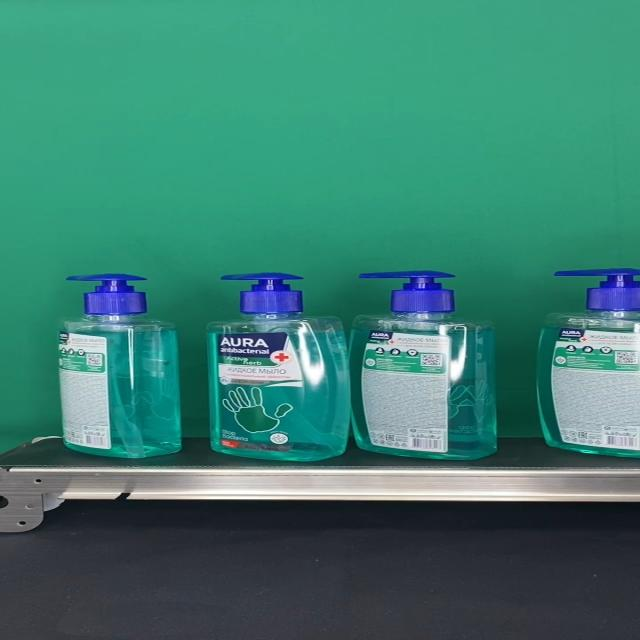Bottle: (349, 271, 497, 460), (206, 273, 350, 462), (57, 273, 182, 458)
Cap: (357, 271, 457, 313), (220, 272, 306, 314), (66, 273, 148, 314)
